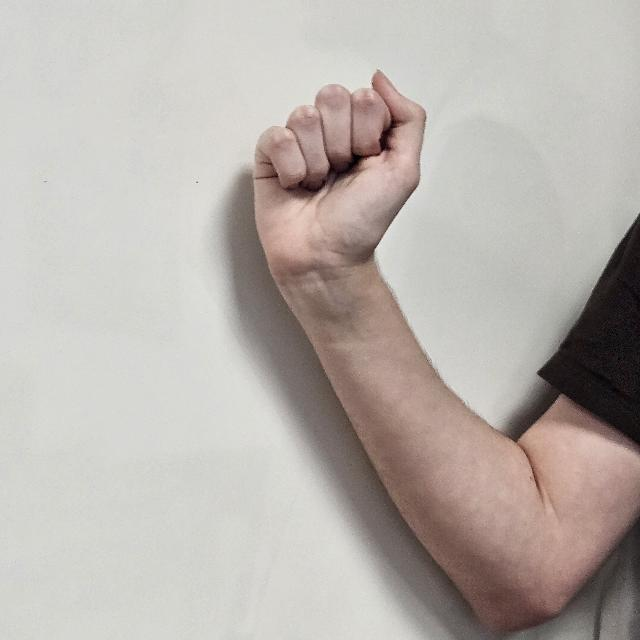Quadro: (251, 74, 431, 290)
